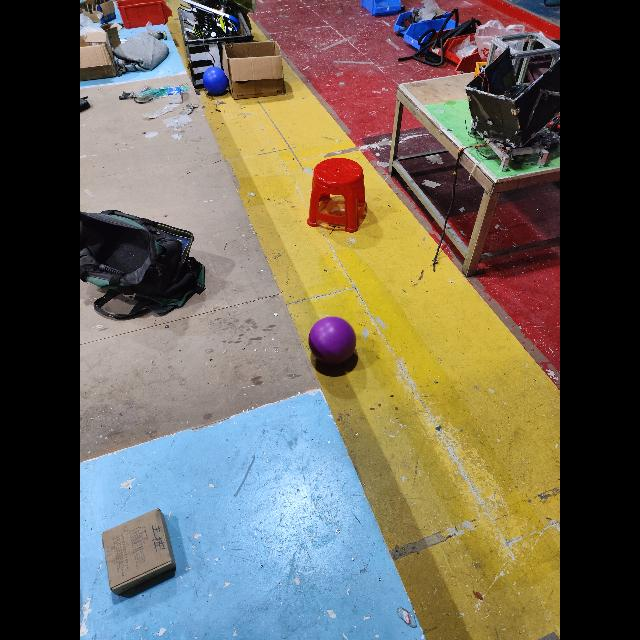B: (202, 66, 230, 96)
P: (308, 316, 356, 368)
